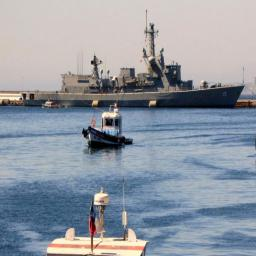Fragata: (22, 11, 248, 111)
